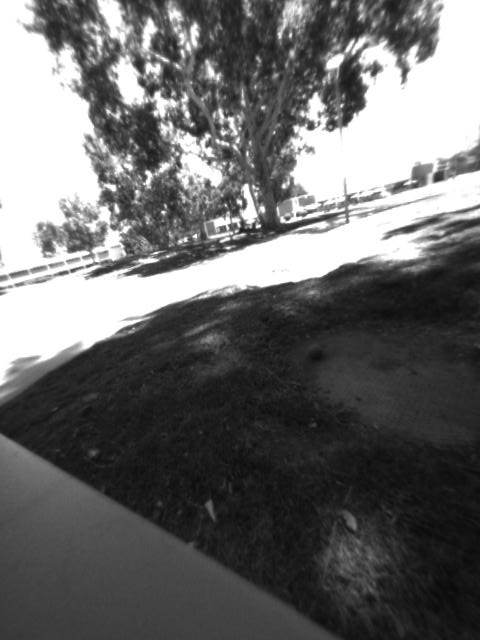dogtoy: (295, 333, 335, 374)
